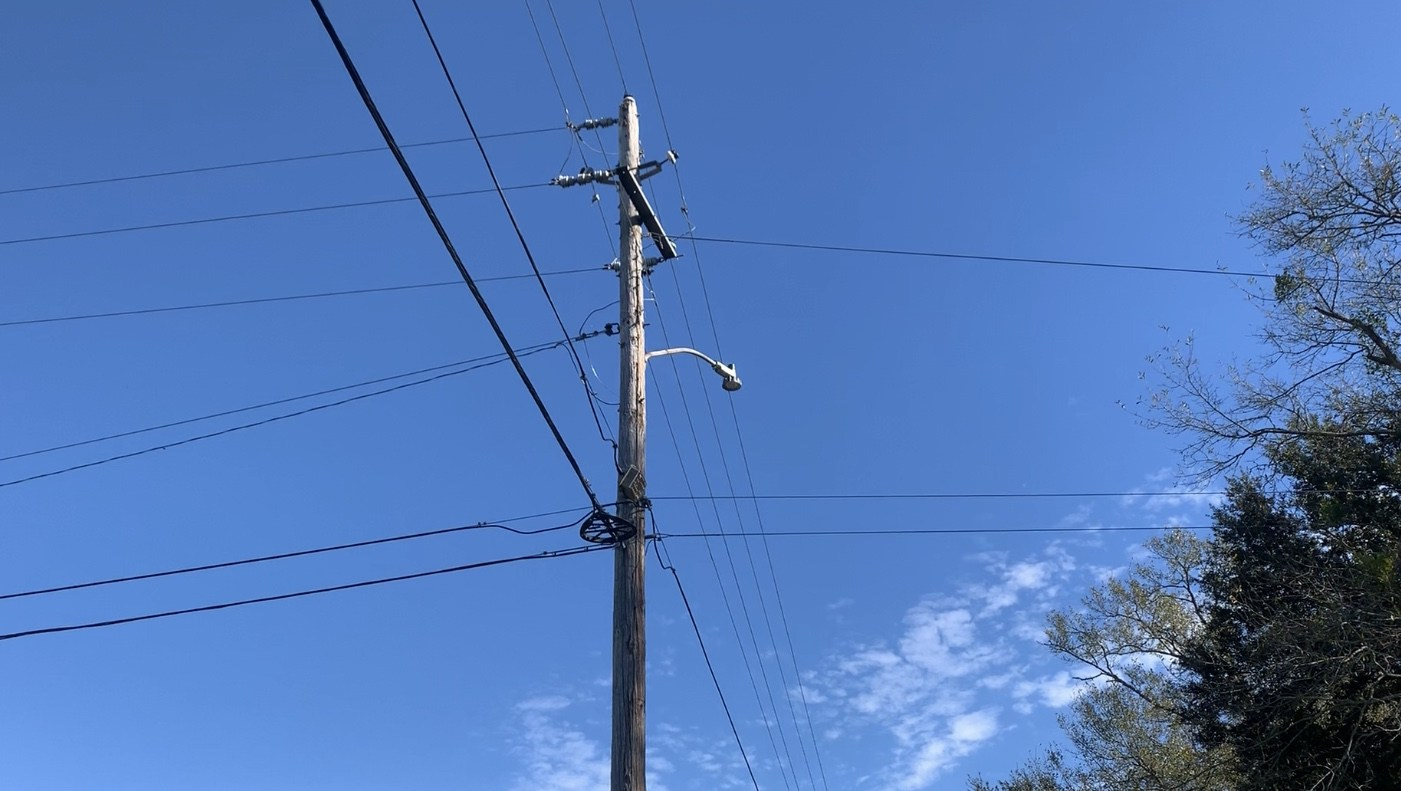utility_pole: (533, 71, 762, 583)
